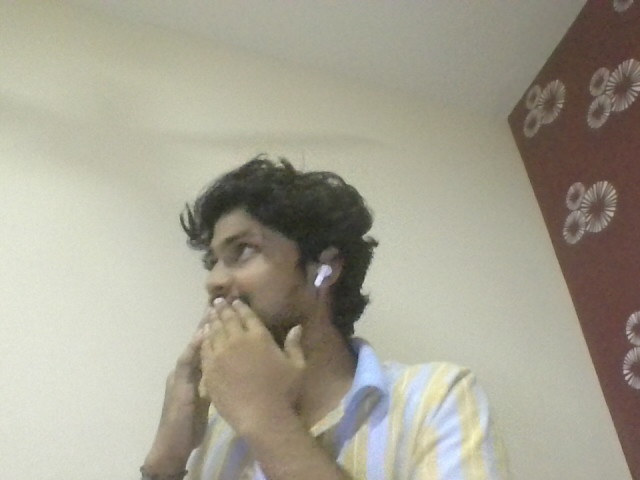Thanks: (162, 298, 305, 438)
